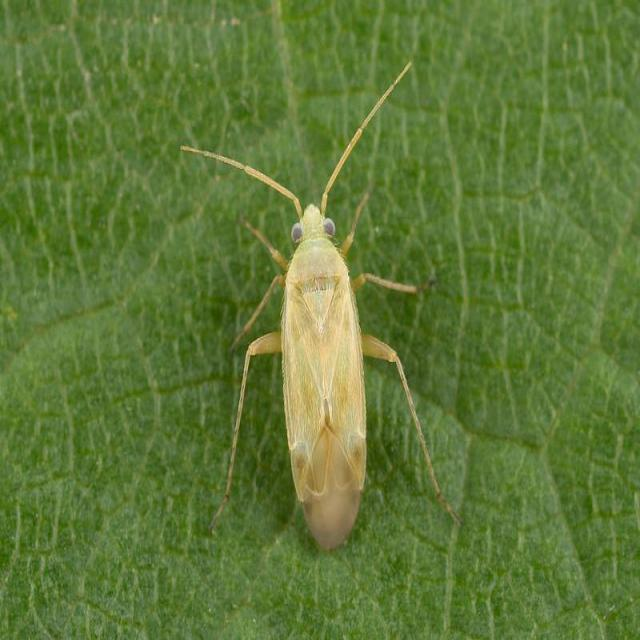Miridae-Adult-: (177, 51, 449, 556)
